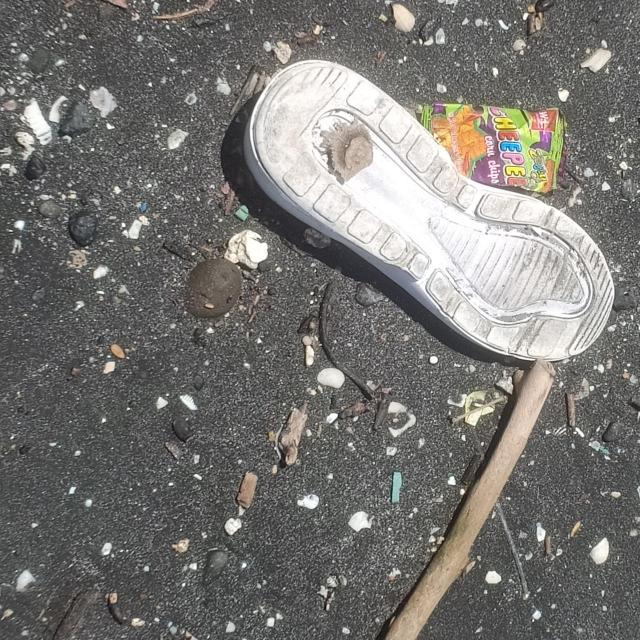plastic_waste: (421, 102, 569, 196)
rubber_waste: (244, 64, 618, 368)
